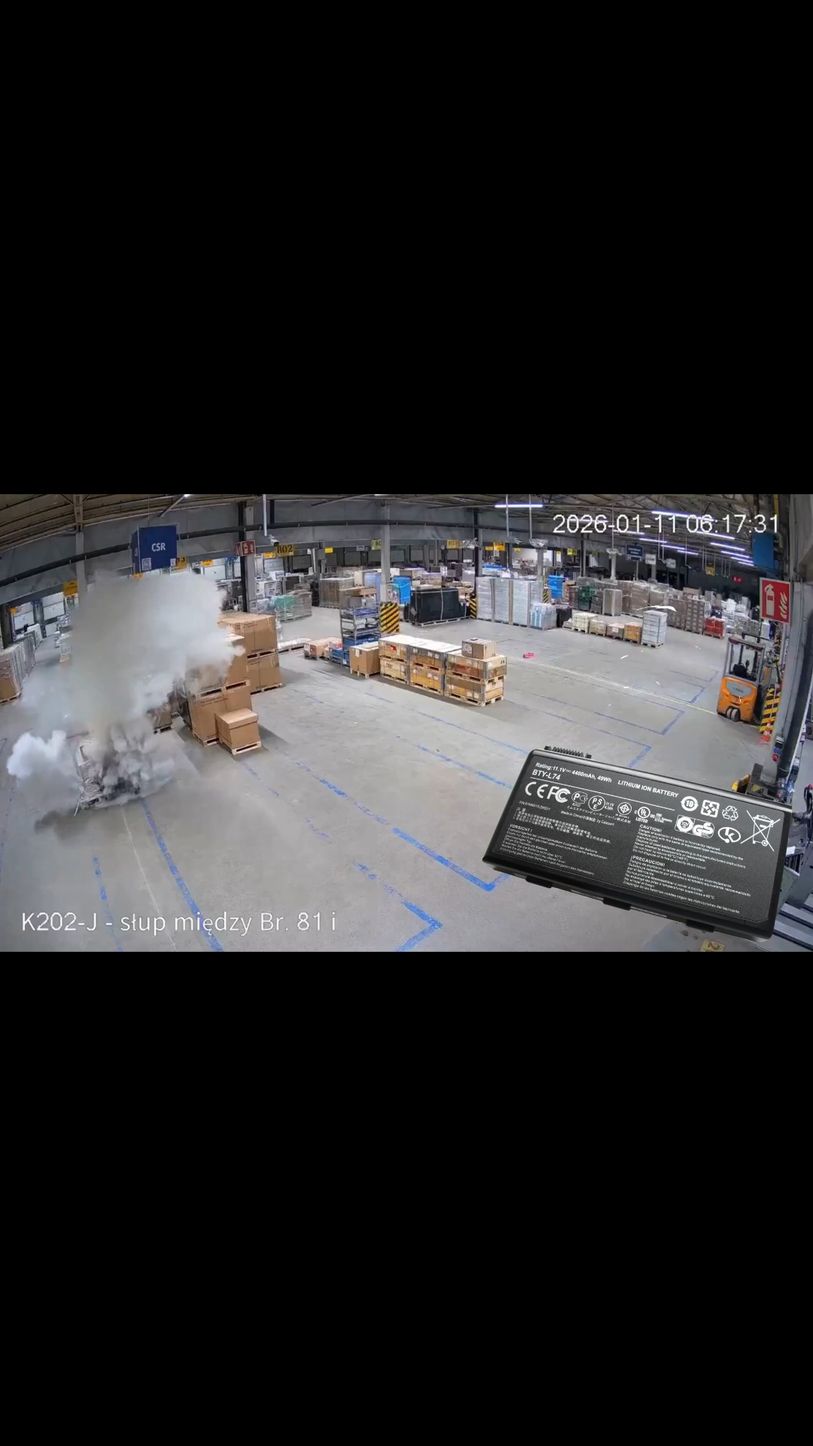smoke: (6, 567, 236, 804)
